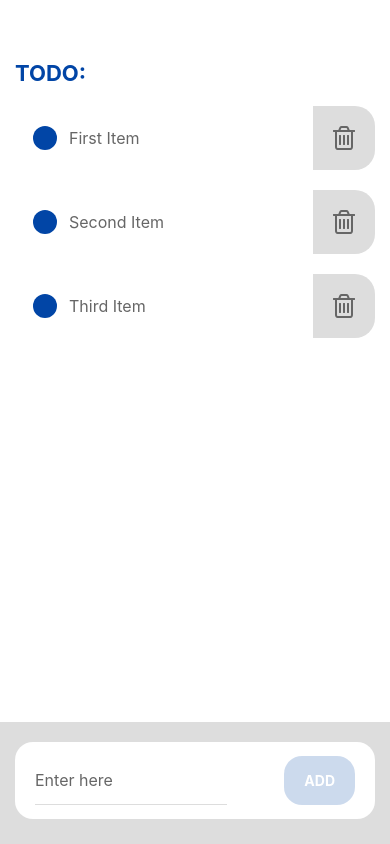
it: Home screen › should create two items
Type "Forth Item" into the field with test id "inputPanelInput" at (131, 780), box [35,756,227,805]
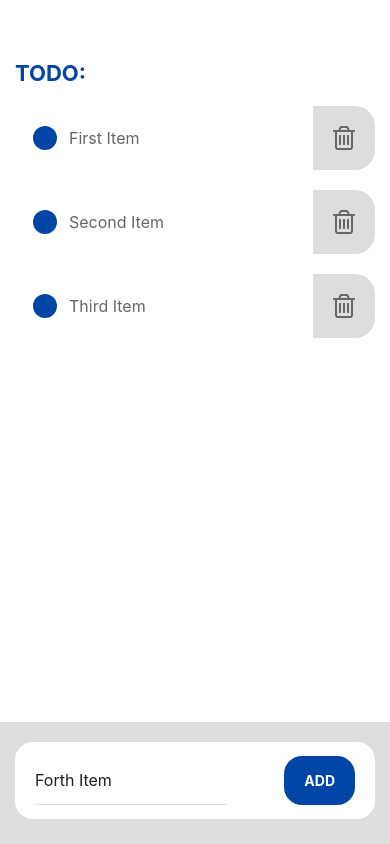
Click the element with test id "inputPanelButton" at (320, 780), box [284,756,355,805]
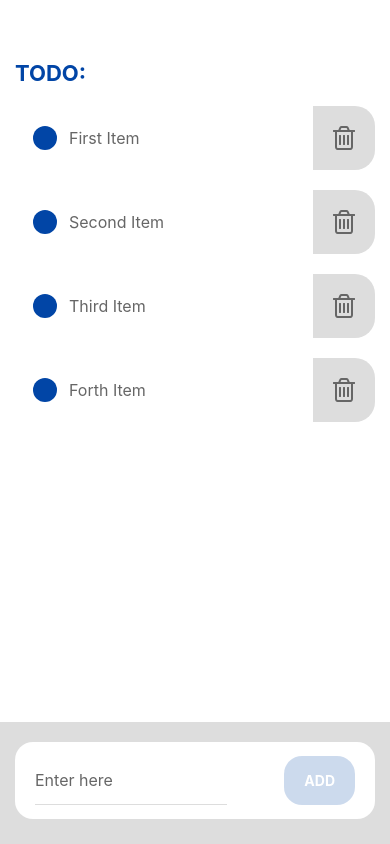
Type "Fifth Item" into the field with test id "inputPanelInput" at (131, 780), box [35,756,227,805]
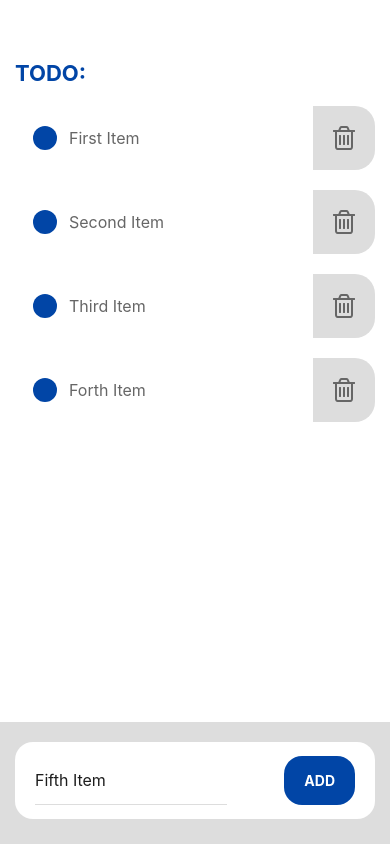
Click the element with test id "inputPanelButton" at (320, 780), box [284,756,355,805]
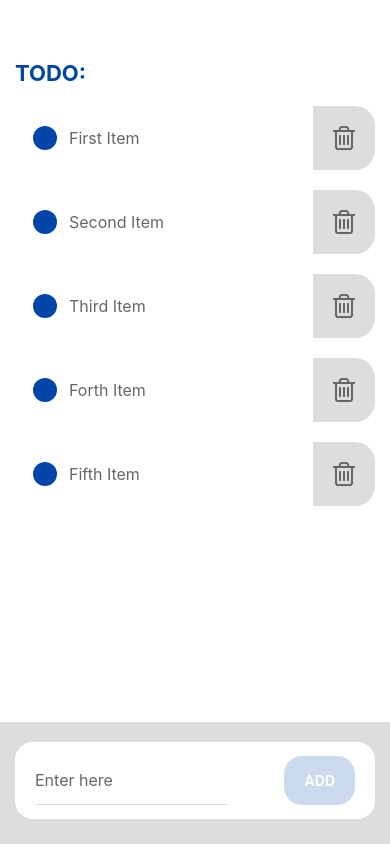
Result: the element with test id "list" shows "Forth Item" at [69,380,146,400]
Result: the element with test id "list" shows "Fifth Item" at [69,464,140,484]
Result: the element with test id "inputPanelButton" is disabled at [284,756,355,805]
